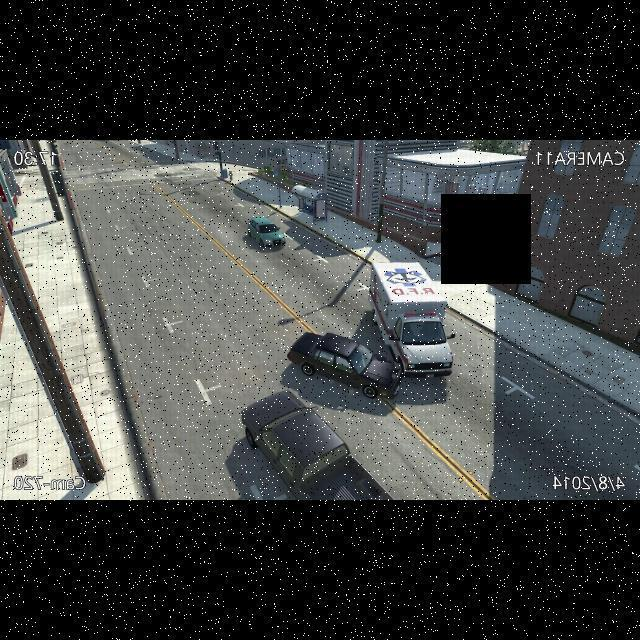multiple_accident: (286, 233, 465, 425)
